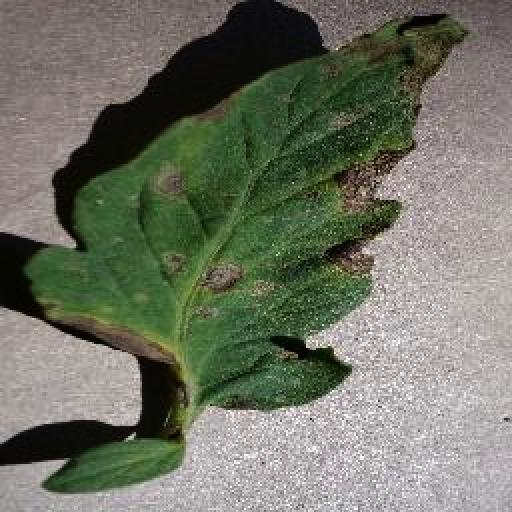disease_tomato: (23, 12, 471, 414)
